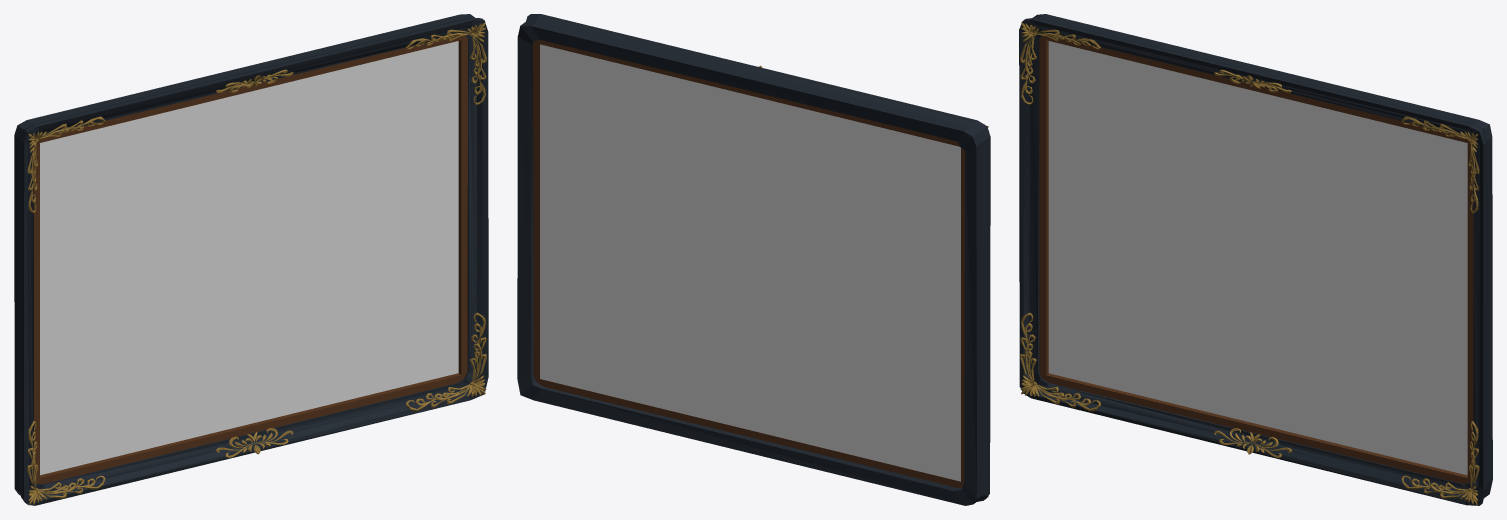
Rendered from frame004_s.glb.
3 renders of one model, left to right at view 1: azimuth 30°, elevation 25°; view 2: azimuth 150°, elevation 25°; view 3: azimuth 330°, elevation 25°, orthographic.
Parts seen in each view (by area): view 1: canvas_平面, frame_Cube.003, frame_inner_Cube.001, moyou001_Lines.001, moyou021_Lines.002; view 2: canvas_平面, frame_Cube.003, frame_inner_Cube.001; view 3: canvas_平面, frame_Cube.003, frame_inner_Cube.001, moyou001_Lines.001, moyou021_Lines.002.
Boxes of the visible parts, <box> form: canvas_平面: <box>40,41,458,475</box>; frame_Cube.003: <box>14,14,488,505</box>; frame_inner_Cube.001: <box>33,35,467,483</box>; moyou001_Lines.001: <box>27,22,486,505</box>; moyou021_Lines.002: <box>215,69,293,457</box>; canvas_平面: <box>540,44,960,481</box>; frame_Cube.003: <box>517,14,990,505</box>; frame_inner_Cube.001: <box>533,39,965,487</box>; canvas_平面: <box>1048,41,1467,475</box>; frame_Cube.003: <box>1019,14,1492,505</box>; frame_inner_Cube.001: <box>1039,35,1473,483</box>; moyou001_Lines.001: <box>1020,22,1479,505</box>; moyou021_Lines.002: <box>1214,69,1291,457</box>.
Size of the model in its own units: 14.26 by 11.14 by 0.783.
